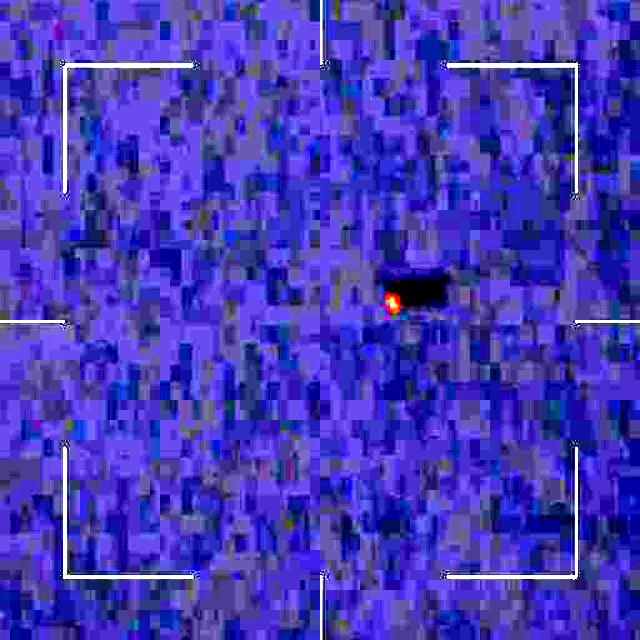bird: (381, 284, 401, 316)
